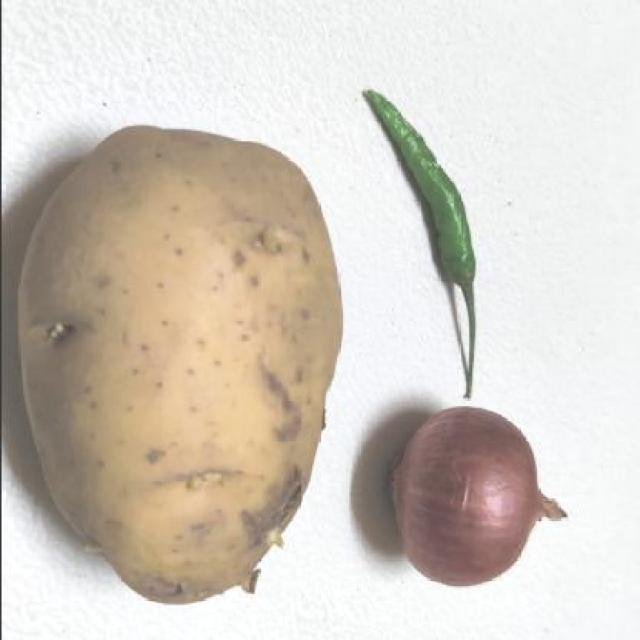Pepper: (350, 3, 492, 399)
onion: (356, 399, 586, 596)
potato: (0, 105, 342, 628)
